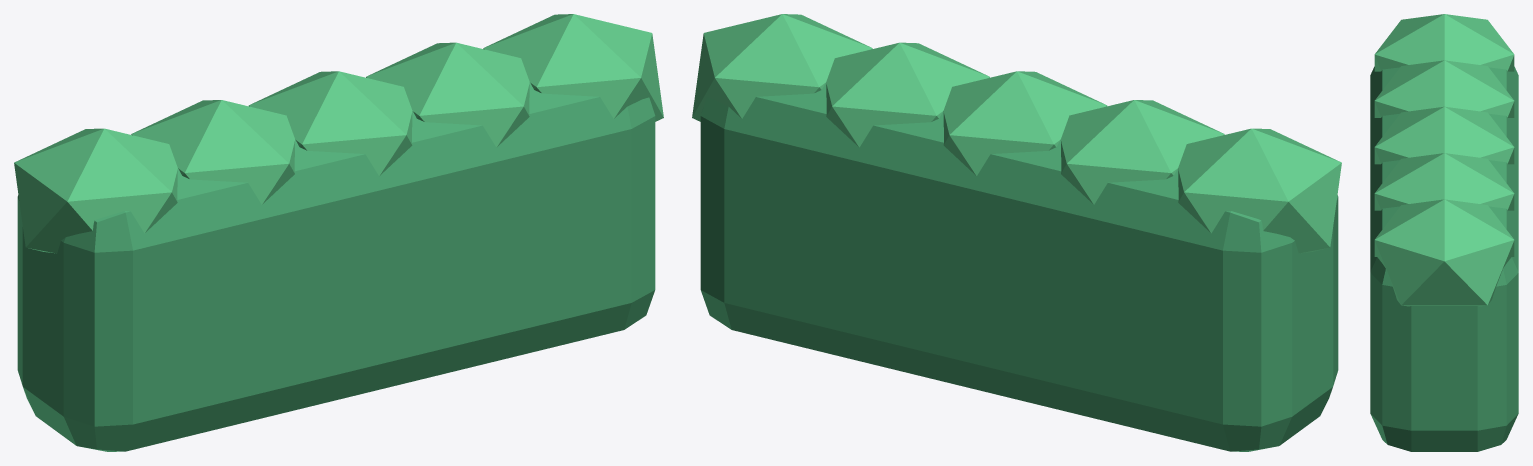
Rendered from hedge_straight.glb.
3 views of the same model, side by side, from view 1: azimuth 30°, elevation 25°; view 2: azimuth 150°, elevation 25°; view 3: azimuth 270°, elevation 25° (orthographic). The views are drawn at different scales.
Visible parts, largest first — view 1: hedge_straight__Hedge, hedge_straight__Crown, hedge_straight__Crown.004, hedge_straight__Crown.003, hedge_straight__Crown.002, hedge_straight__Crown.001; view 2: hedge_straight__Hedge, hedge_straight__Crown, hedge_straight__Crown.004, hedge_straight__Crown.003, hedge_straight__Crown.002, hedge_straight__Crown.001; view 3: hedge_straight__Hedge, hedge_straight__Crown.004, hedge_straight__Crown.002, hedge_straight__Crown.003, hedge_straight__Crown, hedge_straight__Crown.001.
Part boxes in pixels (<box>): hedge_straight__Hedge: <box>17,83,655,451</box>; hedge_straight__Crown: <box>14,128,177,253</box>; hedge_straight__Crown.004: <box>483,14,663,121</box>; hedge_straight__Crown.003: <box>366,42,529,147</box>; hedge_straight__Crown.002: <box>248,71,412,176</box>; hedge_straight__Crown.001: <box>131,100,295,204</box>; hedge_straight__Hedge: <box>700,83,1338,451</box>; hedge_straight__Crown: <box>1178,128,1341,253</box>; hedge_straight__Crown.004: <box>692,14,872,121</box>; hedge_straight__Crown.003: <box>826,42,989,147</box>; hedge_straight__Crown.002: <box>943,71,1107,176</box>; hedge_straight__Crown.001: <box>1060,100,1224,204</box>; hedge_straight__Hedge: <box>1370,66,1518,451</box>; hedge_straight__Crown.004: <box>1374,199,1514,306</box>; hedge_straight__Crown.002: <box>1374,106,1514,164</box>; hedge_straight__Crown.003: <box>1374,153,1514,210</box>; hedge_straight__Crown: <box>1374,14,1514,71</box>; hedge_straight__Crown.001: <box>1374,60,1514,117</box>.
Bounding box in the file's own units: 0.5128 × 0.238 × 0.13.
